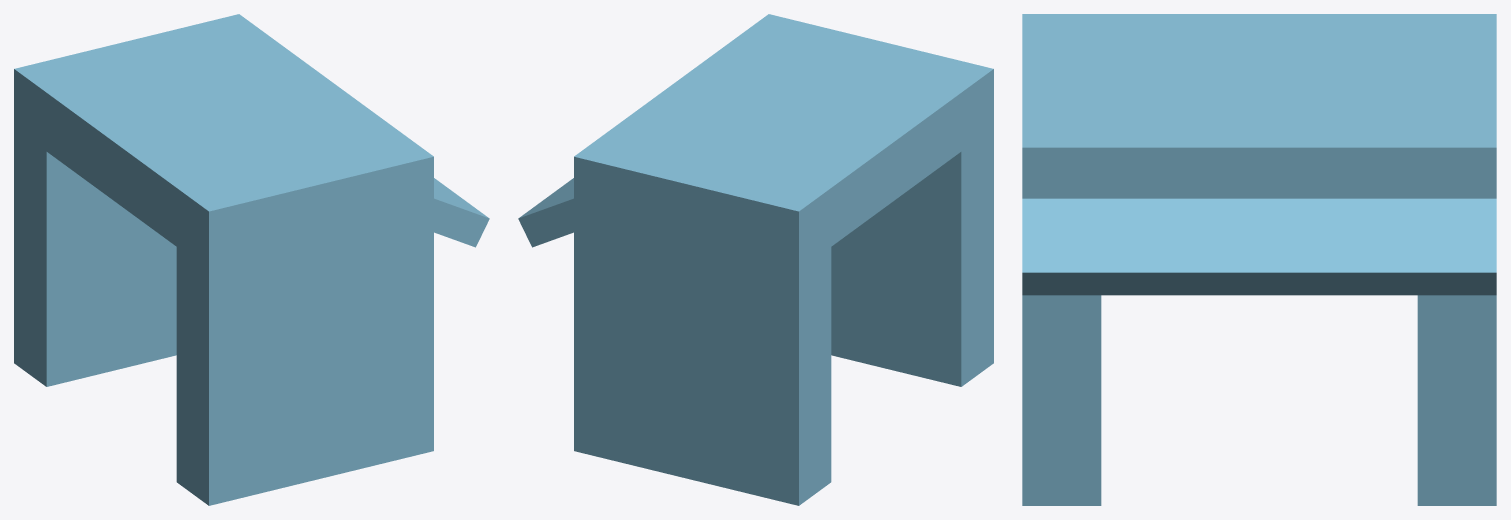
Rendered from shop_house_PC.fbx.
3 renders of one model, left to right at view 1: azimuth 30°, elevation 25°; view 2: azimuth 150°, elevation 25°; view 3: azimuth 270°, elevation 25°, orthographic. The views are drawn at different scales.
Parts seen in each view (by area): view 1: StallHouse__5_, StallHouse__4_, StallHouse__6_, StallShelter__71_; view 2: StallHouse__5_, StallHouse__6_, StallHouse__4_, StallShelter__71_; view 3: StallHouse__5_, StallShelter__71_, StallHouse__4_, StallHouse__6_.
Part boxes in pixels (x1,y1,x2,y2): StallHouse__5_: (14, 14, 433, 270); StallHouse__4_: (176, 216, 433, 505); StallHouse__6_: (14, 128, 176, 386); StallShelter__71_: (379, 178, 489, 247); StallHouse__5_: (574, 14, 993, 270); StallHouse__6_: (574, 216, 831, 505); StallHouse__4_: (831, 128, 993, 386); StallShelter__71_: (518, 178, 629, 247); StallHouse__5_: (1022, 14, 1496, 198); StallShelter__71_: (1022, 198, 1496, 295); StallHouse__4_: (1022, 295, 1101, 505); StallHouse__6_: (1417, 295, 1496, 505).
Bounding box in the file's own units: 250 × 250 × 300.
